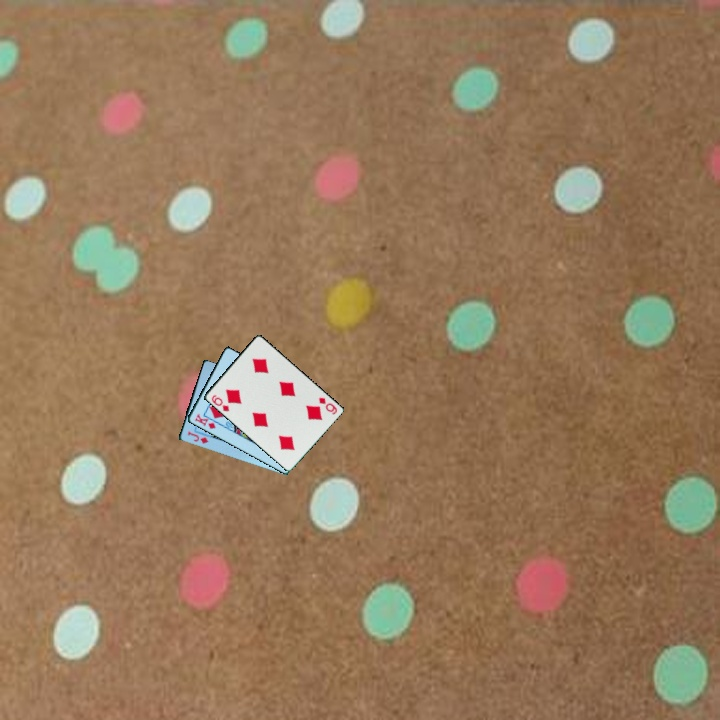6d: (315, 394, 340, 417), (208, 391, 232, 414)
Jd: (184, 428, 211, 447)
Kd: (191, 410, 218, 432)
